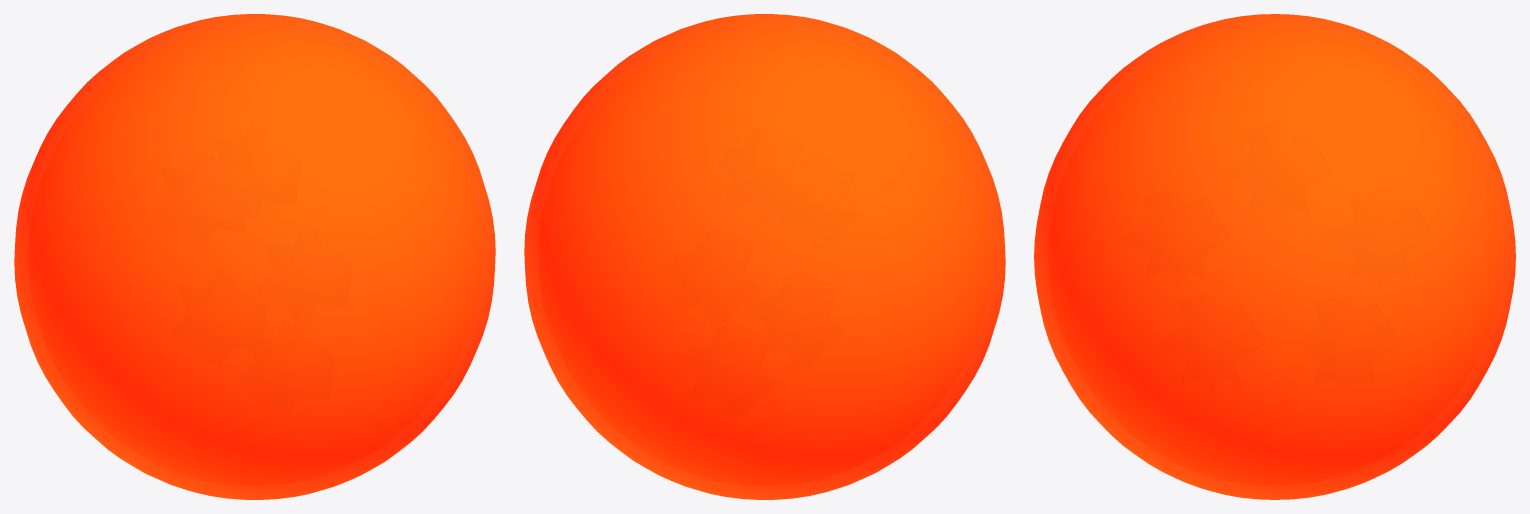
Rendered from dragon ball 5.glb.
3 renders of one model, left to right at view 1: azimuth 30°, elevation 25°; view 2: azimuth 150°, elevation 25°; view 3: azimuth 270°, elevation 25°, orthographic.
Parts seen in each view (by area): view 1: Dragon ball 5; view 2: Dragon ball 5; view 3: Dragon ball 5.
Boxes of the visible parts, x1,y1,x2,y2 form: Dragon ball 5: (14,14,495,499); Dragon ball 5: (524,14,1005,499); Dragon ball 5: (1034,14,1515,499).
Size of the model in its own units: 4.28 by 4.34 by 4.28.
